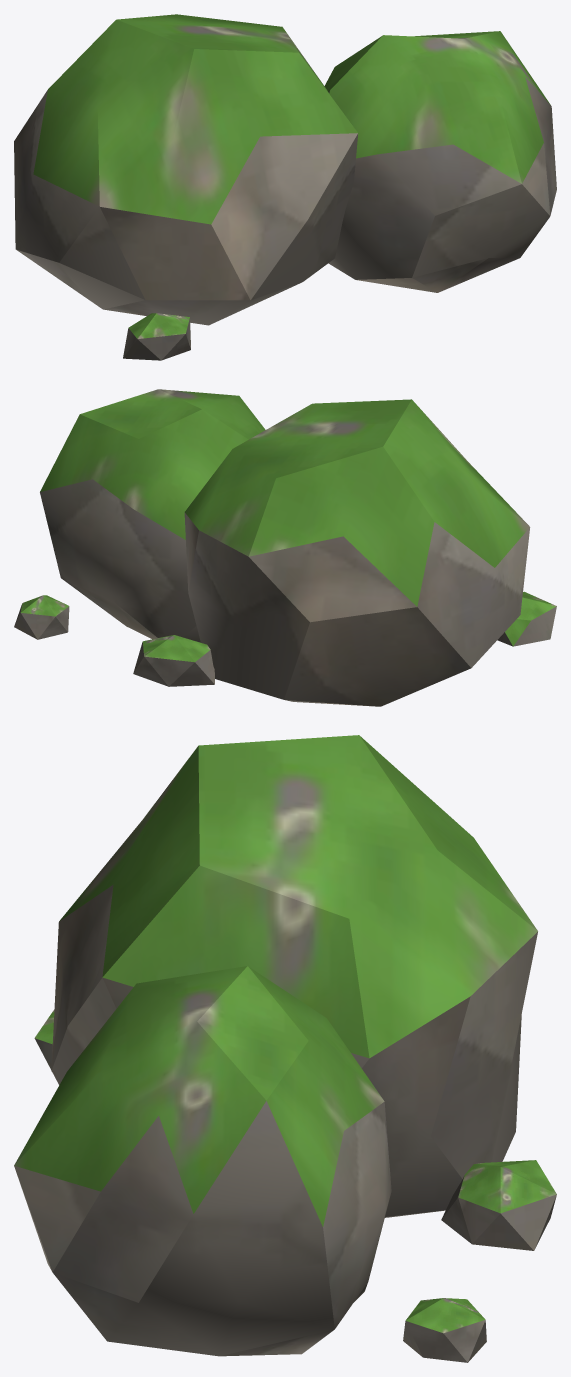
Rendered from boulder_0.glb.
3 views of the same model, one above another, from view 1: azimuth 30°, elevation 25°; view 2: azimuth 150°, elevation 25°; view 3: azimuth 270°, elevation 25° (orthographic). The views are drawn at different scales.
Visible parts, largest first — view 1: boulder_0; view 2: boulder_0; view 3: boulder_0.
Part boxes in pixels (x1,y1,x2,y2): boulder_0: (14,14,556,360); boulder_0: (14,389,556,706); boulder_0: (14,735,556,1362).
Size of the model in its own units: 5.76 by 3.32 by 3.8.
Materials: 1 (1 with a texture image).
